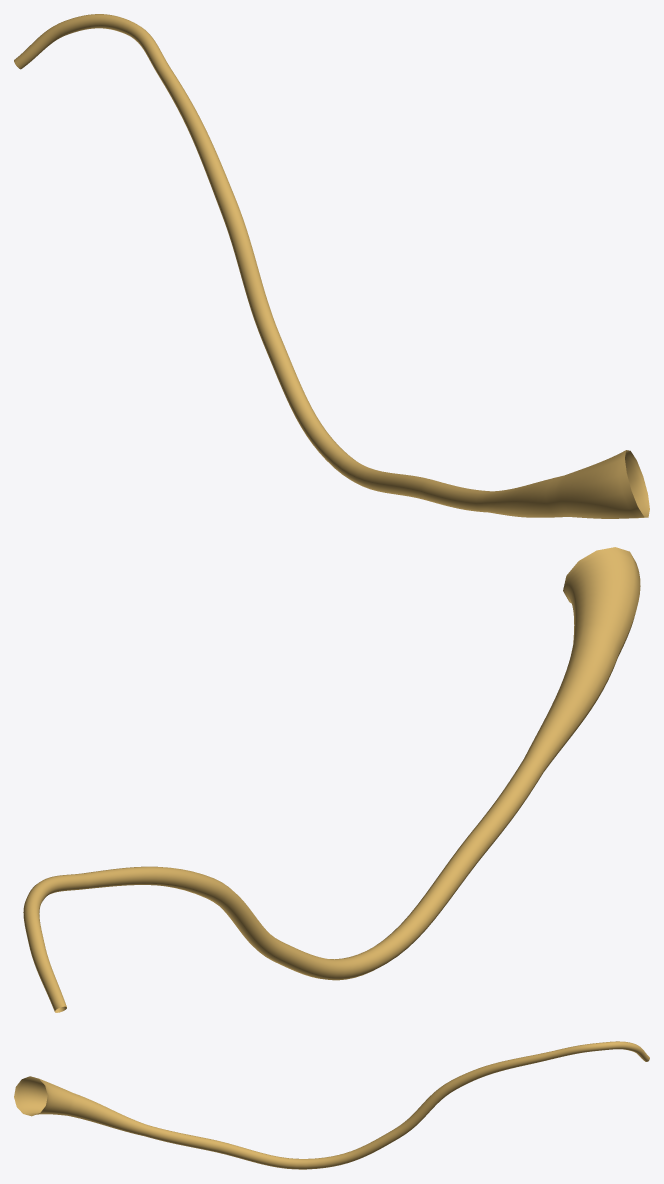
The picture shows the model from 3 angles, top to bottom: view 1: azimuth 30°, elevation 25°; view 2: azimuth 150°, elevation 25°; view 3: azimuth 270°, elevation 25°; orthographic projection. The views are drawn at different scales.
Parts seen in each view (by area): view 1: 左侧输尿管; view 2: 左侧输尿管; view 3: 左侧输尿管.
Part boxes in pixels (x1=…): 左侧输尿管: x1=14, y1=14, x2=649, y2=518; 左侧输尿管: x1=23, y1=547, x2=640, y2=1012; 左侧输尿管: x1=14, y1=1041, x2=649, y2=1169.
Bounding box in the file's own units: 0.0328 × 0.0841 × 0.3497.
